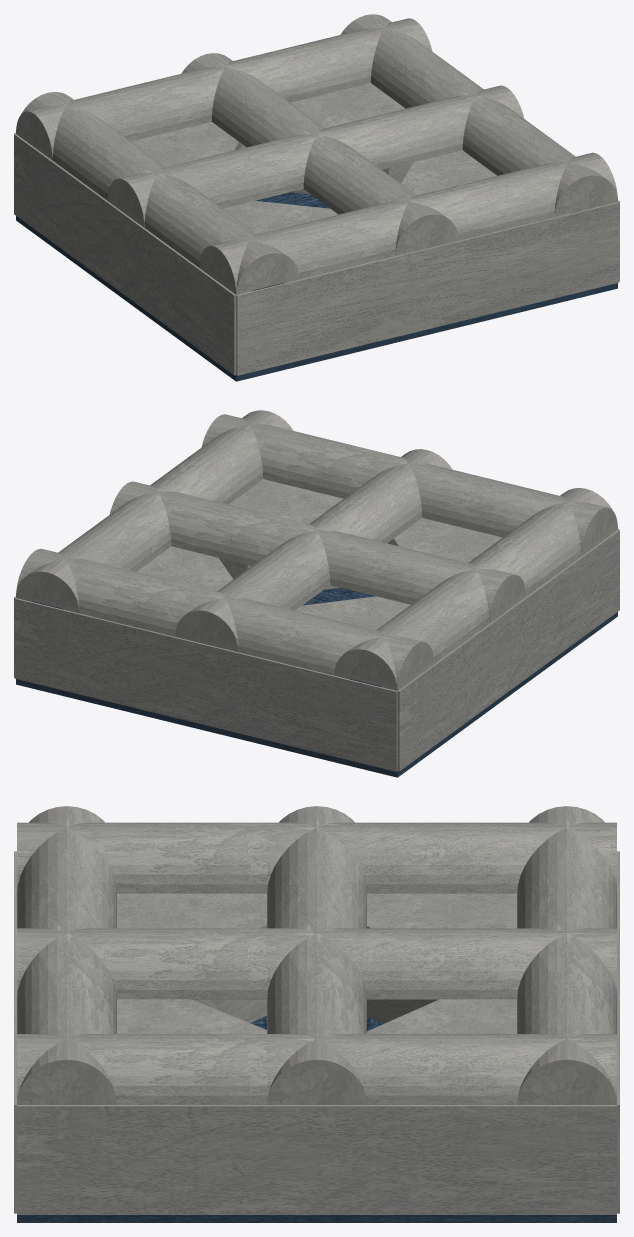
Rendered from test-float.glb.
3 renders of one model, top to bottom at view 1: azimuth 30°, elevation 25°; view 2: azimuth 150°, elevation 25°; view 3: azimuth 270°, elevation 25°, orthographic. The views are drawn at different scales.
Visible parts, largest first — view 1: Cube.007, Cube.005, 円柱.005, 円柱.006, 円柱.007, 円柱.002, 円柱.004, 円柱.003, Cube, 立方体.003, 立方体.004, 立方体.001 (+1 smaller); view 2: Cube.004, Cube.005, 円柱.007, 円柱.006, 円柱.005, 円柱.002, 円柱.004, 円柱.003, Cube, 立方体.001, 立方体.002, 立方体.003 (+1 smaller); view 3: Cube.001, 円柱.002, 円柱.004, 円柱.003, 円柱.005, 円柱.006, 円柱.007, 立方体.002, 立方体.004, Cube, 立方体.001, 立方体.003 (+2 smaller).
Boxes of the visible parts, box(x1,y1,x2,y2) form: Cube.007: box(236, 202, 619, 375); Cube.005: box(14, 134, 236, 375); 円柱.005: box(199, 152, 617, 294); 円柱.006: box(107, 85, 523, 227); 円柱.007: box(16, 18, 432, 160); 円柱.002: box(21, 92, 299, 294); 円柱.004: box(181, 53, 458, 255); 円柱.003: box(340, 14, 617, 217); Cube: box(16, 191, 617, 381); 立方体.003: box(290, 83, 412, 194); 立方体.004: box(131, 122, 241, 166); 立方体.001: box(401, 150, 496, 195); Cube.004: box(14, 598, 397, 771); Cube.005: box(397, 530, 619, 771); 円柱.007: box(16, 548, 434, 690); 円柱.006: box(110, 481, 526, 623); 円柱.005: box(201, 414, 617, 556); 円柱.002: box(334, 488, 612, 690); 円柱.004: box(175, 449, 452, 651); 円柱.003: box(16, 410, 293, 613); Cube: box(16, 587, 617, 777); 立方体.001: box(219, 479, 343, 589); 立方体.002: box(391, 518, 502, 562); 立方体.003: box(137, 546, 233, 591); Cube.001: box(17, 1105, 616, 1214); 円柱.002: box(17, 822, 616, 893); 円柱.004: box(17, 928, 616, 999); 円柱.003: box(17, 1034, 616, 1104); 円柱.005: box(17, 806, 116, 1104); 円柱.006: box(267, 806, 366, 1104); 円柱.007: box(517, 806, 616, 1104); 立方体.002: box(117, 893, 266, 1022); 立方体.004: box(367, 893, 516, 1023); Cube: box(17, 1016, 616, 1222); 立方体.001: box(117, 999, 266, 1033); 立方体.003: box(367, 999, 516, 1033).
Size of the model in its own units: 60.6 by 18 by 60.6.
Materials: 2 (2 with a texture image).
